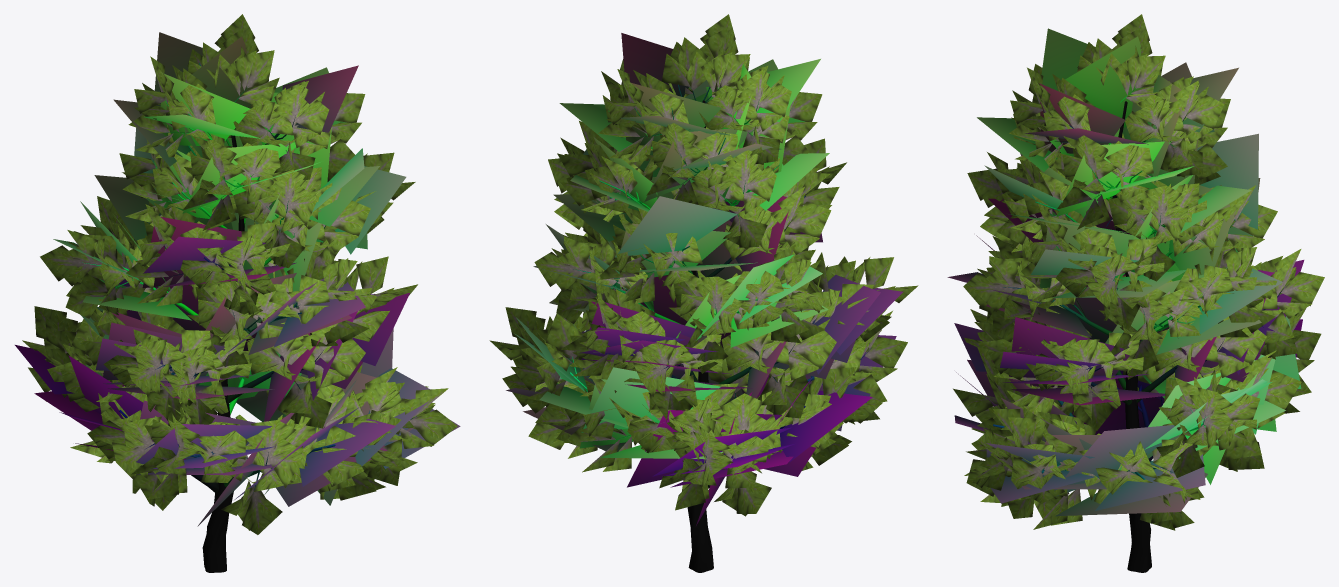
Rendered from BeechTreeGen02_04k.fbx.
3 renders of one model, left to right at view 1: azimuth 30°, elevation 25°; view 2: azimuth 150°, elevation 25°; view 3: azimuth 270°, elevation 25°, orthographic. The views are drawn at different scales.
Visible parts, largest first — view 1: Tree_2, Tree_1, Tree_0; view 2: Tree_2, Tree_1, Tree_0; view 3: Tree_2, Tree_1, Tree_0.
Part boxes in pixels (x1,y1,x2,y2): Tree_2: [22, 14, 457, 534]; Tree_1: [15, 32, 460, 526]; Tree_0: [82, 63, 416, 572]; Tree_2: [489, 14, 918, 516]; Tree_1: [506, 33, 903, 525]; Tree_0: [546, 84, 871, 572]; Tree_2: [953, 14, 1324, 530]; Tree_1: [947, 28, 1304, 516]; Tree_0: [993, 88, 1284, 572].
Size of the model in its own units: 59.89 by 88.67 by 58.12.
